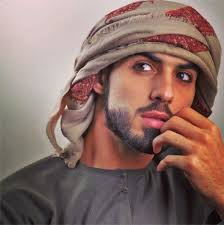middle_eastern_male: (111, 38, 204, 146)
